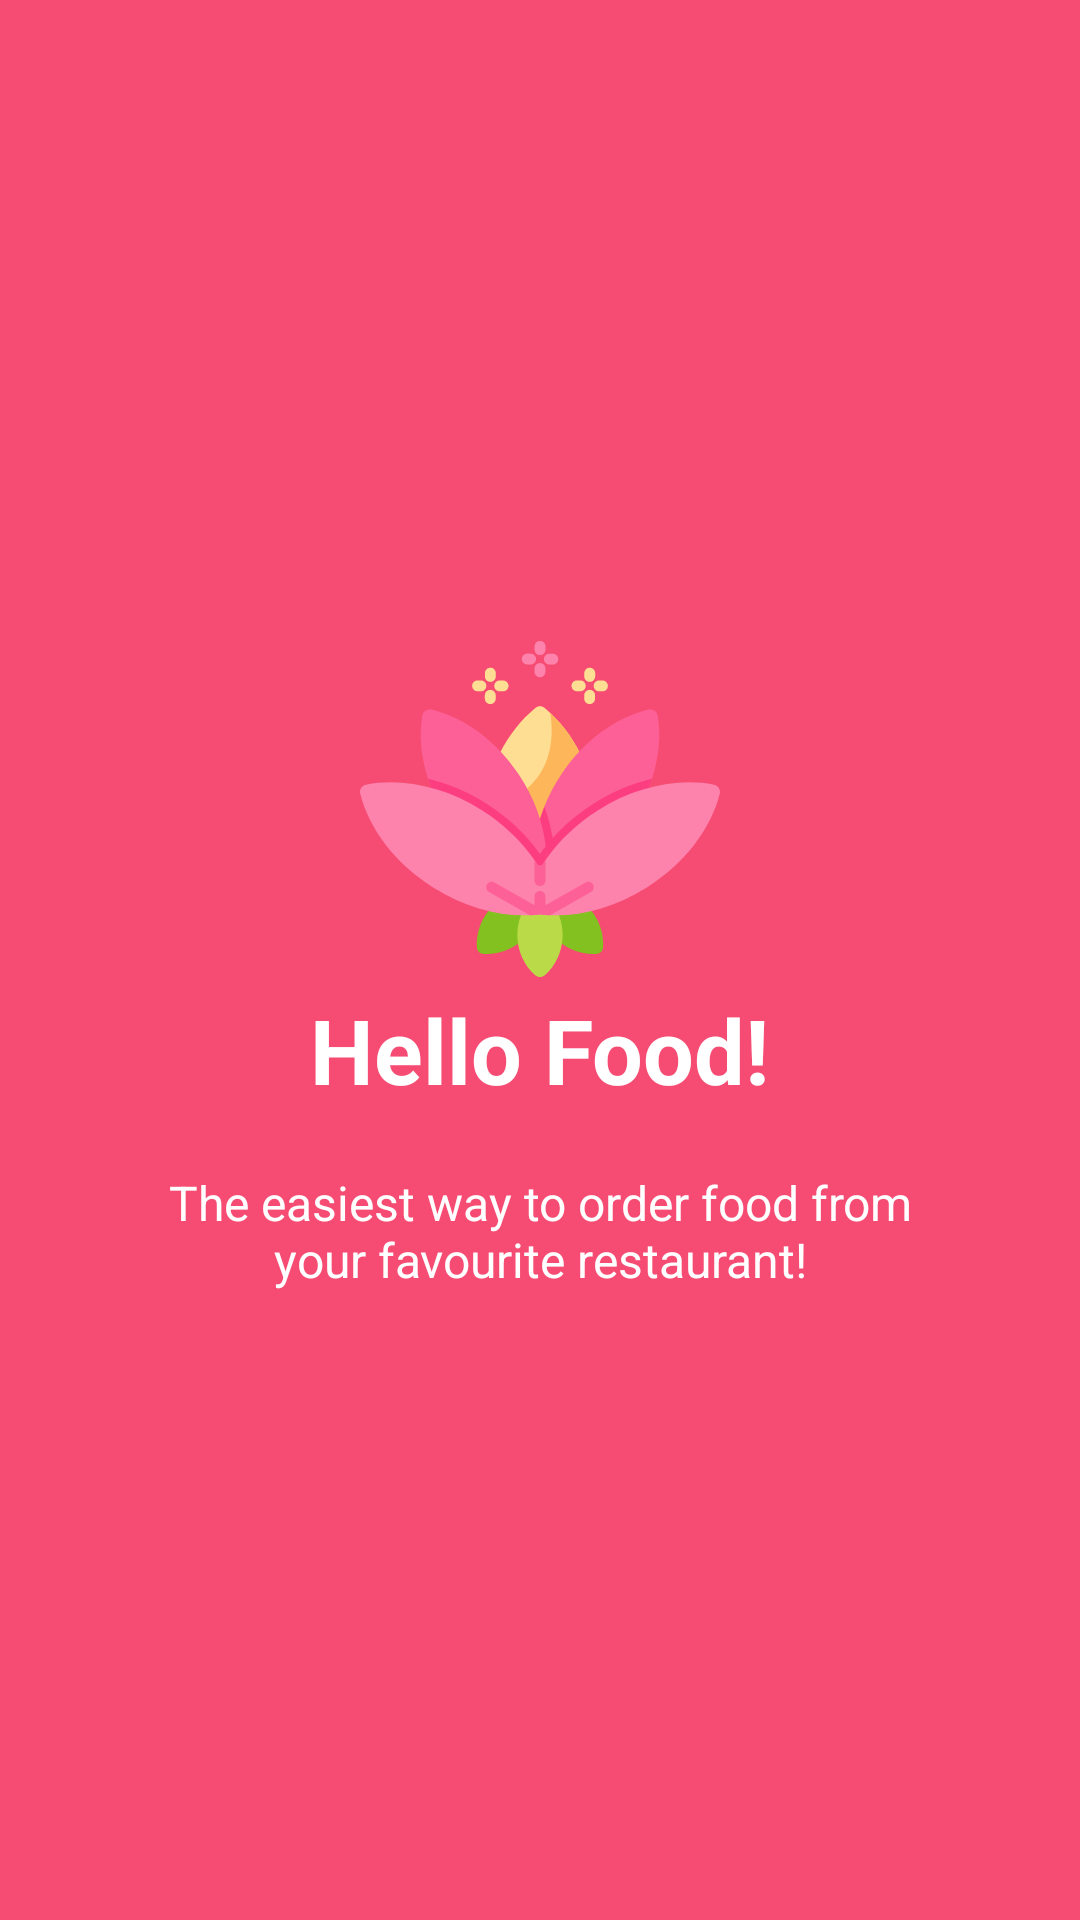

Screen size 1080 × 1920. Icon name, then its center in pixels as [x,y]:
lotus flower: [540,809]
